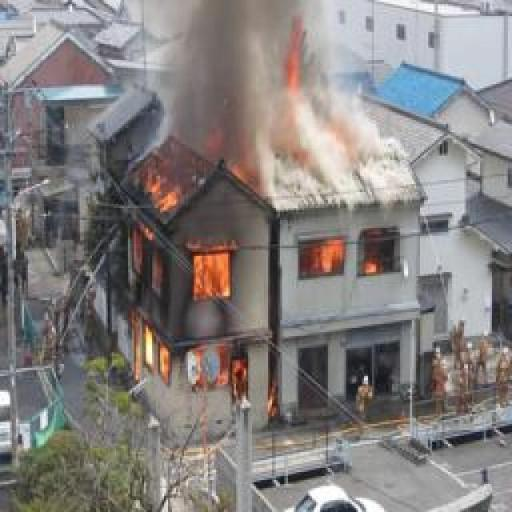smoke: (128, 158, 262, 444), (275, 30, 308, 174), (297, 244, 396, 279)
